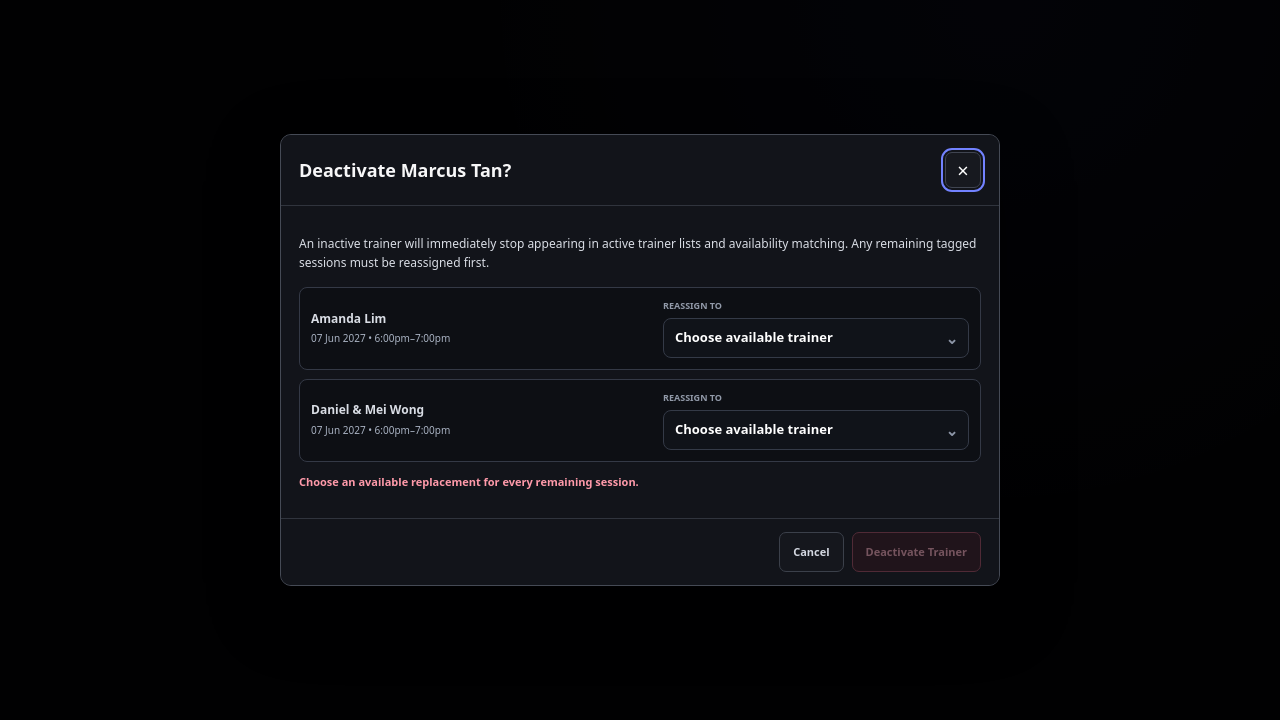
deactivation filters against other pending replacement selections before saving
Select "Rachel Ong" in the dropdown labelled "Reassign to ⌄" in the row of "Amanda Lim" at coordinates (816, 338), box [663,318,969,358]
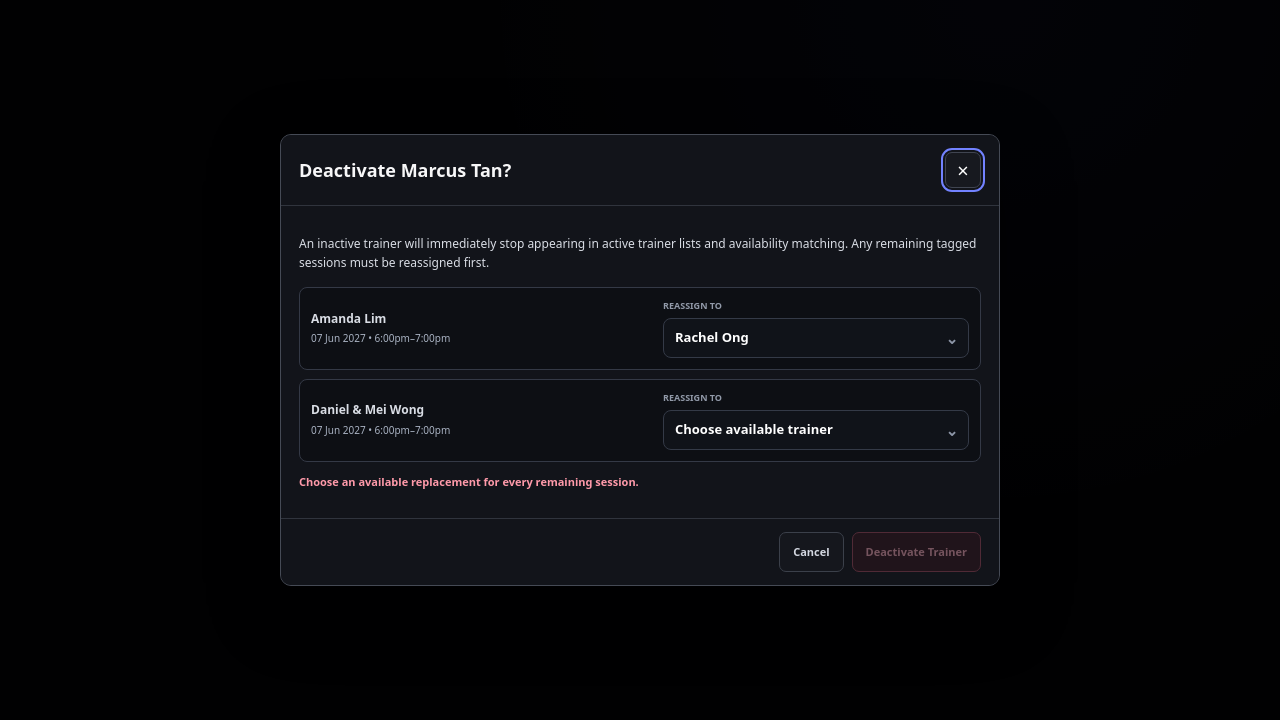
Expected: the button "Deactivate Trainer" is disabled, [852,532,981,572]
Select "Daniel Lee" in the dropdown labelled "Reassign to ⌄" in the row of "Daniel & Mei Wong" at coordinates (816, 430), box [663,410,969,450]
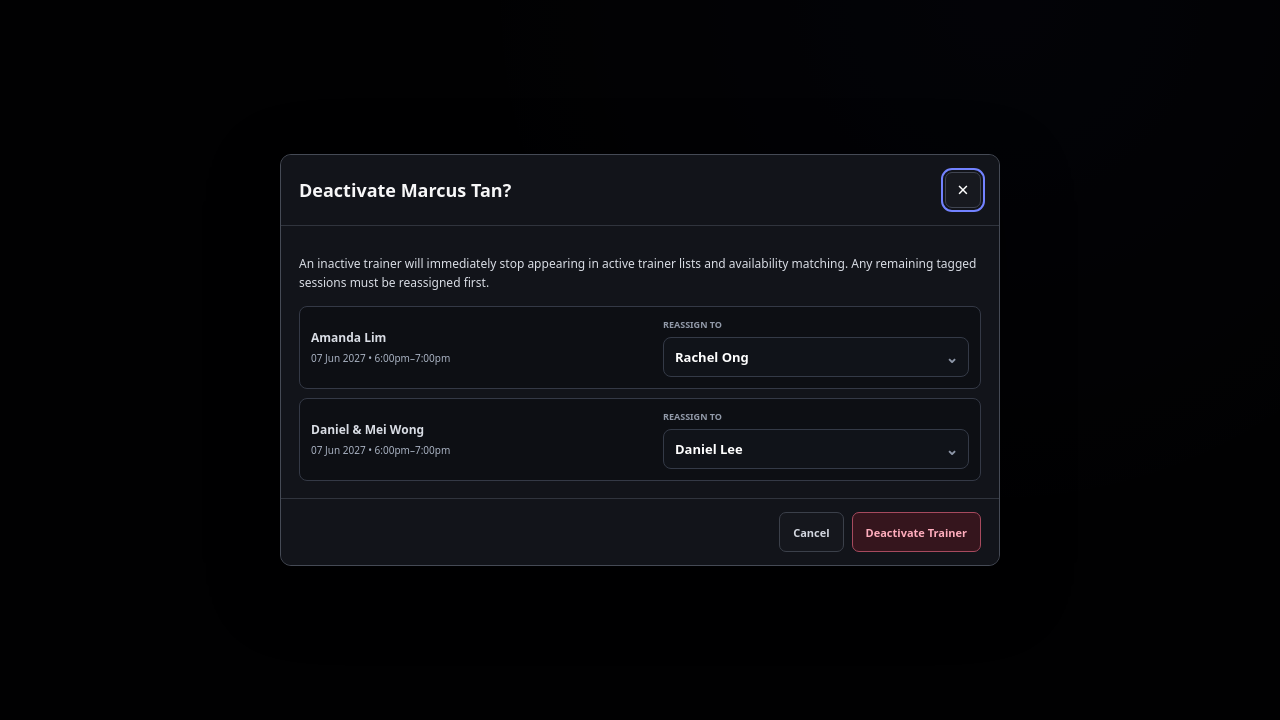
Now the button "Deactivate Trainer" is enabled, box [852,512,981,552]
